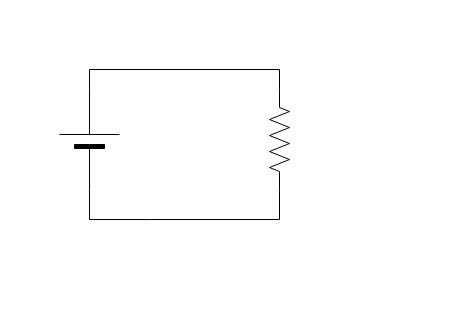resistor: (247, 90, 308, 182)
